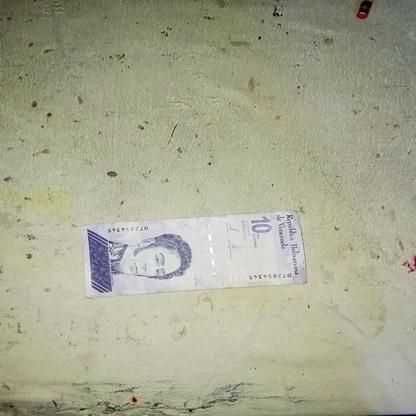ten-front-vef: (82, 209, 307, 300)
